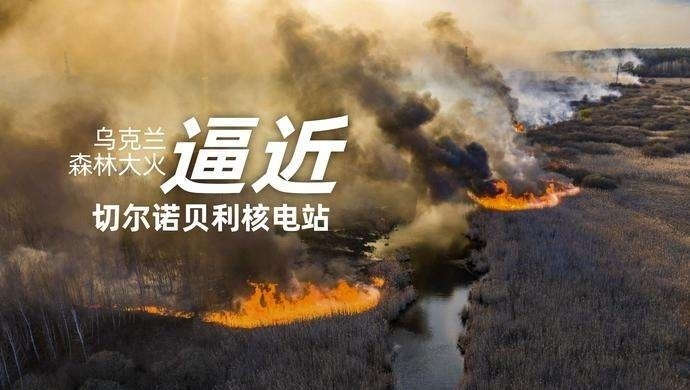fire: (128, 278, 385, 329), (464, 170, 581, 212), (511, 117, 528, 136)
